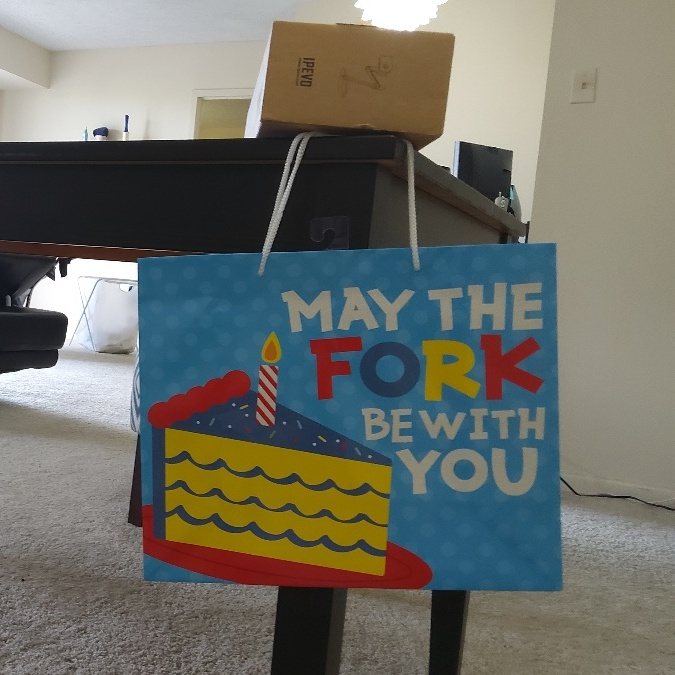paper_bag: (139, 259, 559, 584)
